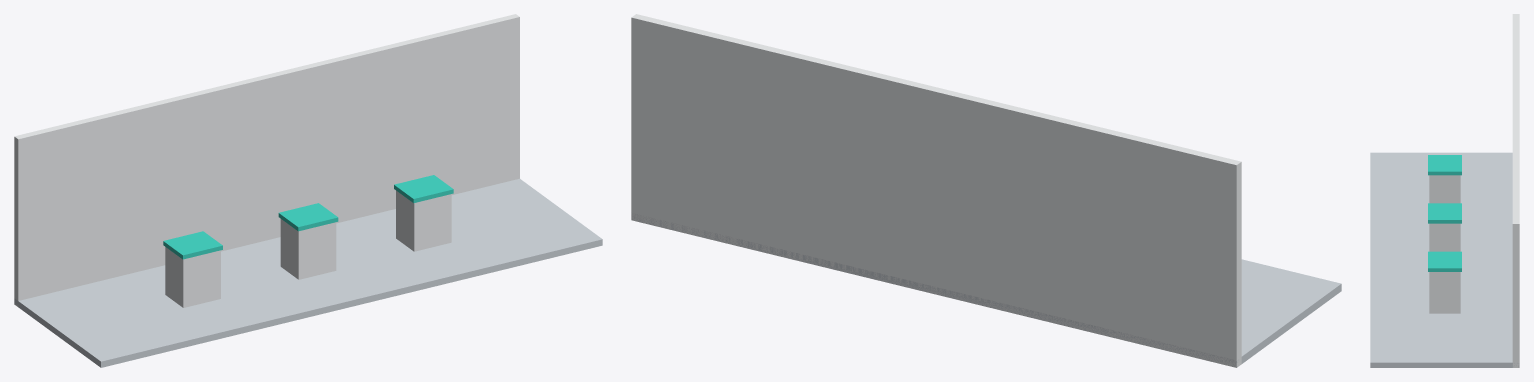
3 views of the same model, side by side, from view 1: azimuth 30°, elevation 25°; view 2: azimuth 150°, elevation 25°; view 3: azimuth 270°, elevation 25° (orthographic). The views are drawn at different scales.
Visible parts, largest first — view 1: Exhibition Booth Concept; view 2: Exhibition Booth Concept; view 3: Exhibition Booth Concept.
Boxes of the visible parts, left/top/right/bottom form: Exhibition Booth Concept: left=14, top=14, right=602, bottom=367; Exhibition Booth Concept: left=631, top=14, right=1341, bottom=367; Exhibition Booth Concept: left=1370, top=14, right=1519, bottom=367.
Size of the model in its own units: 10 by 3.2 by 3.
